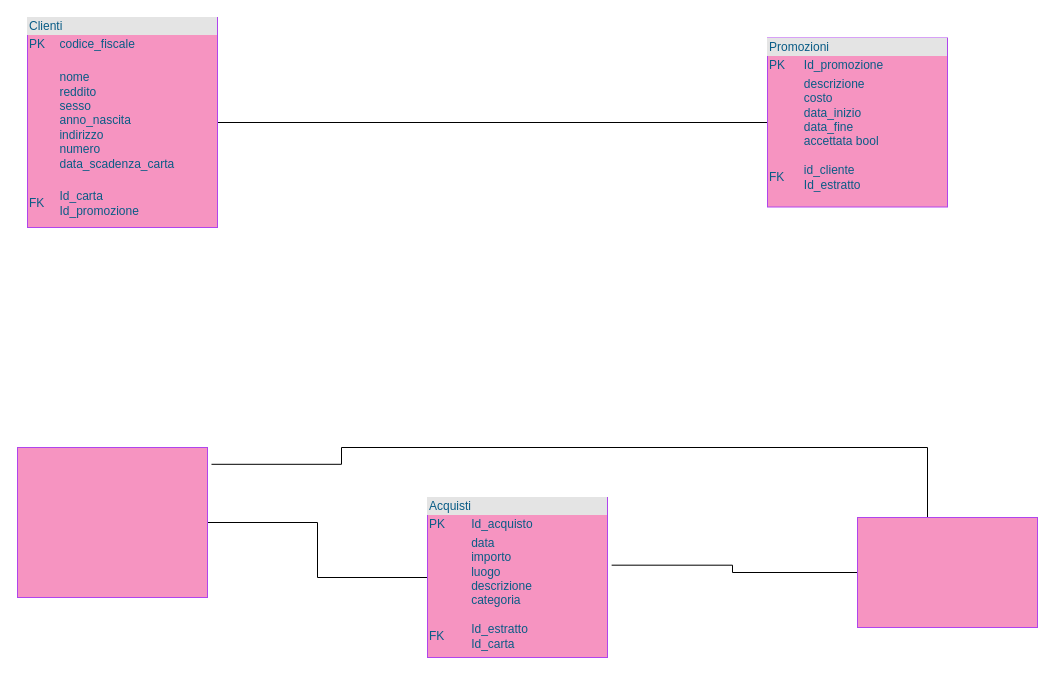
The diagram is 1055 pixels wide and 675 high, and some of its shapes have lost their labels. Here are the shapes that lost their labels. From the top down, the box of each, then its label:
(16, 446, 208, 598): EstrattiConti PK Id_estratto FK data totale_spese Id_carta
(856, 516, 1038, 628): Carte PK Id_carta FK Id_estratto Id_acquisto
